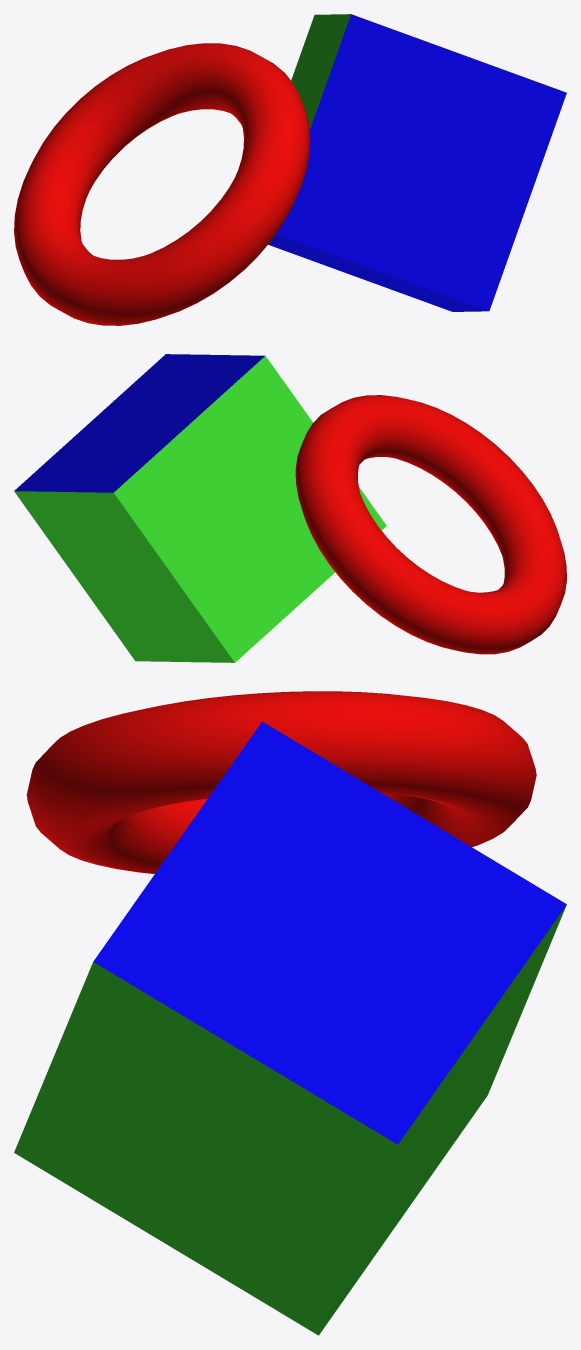
Rendered from multipart.gltf.
3 views of the same model, one above another, from view 1: azimuth 30°, elevation 25°; view 2: azimuth 150°, elevation 25°; view 3: azimuth 270°, elevation 25° (orthographic). The views are drawn at different scales.
Parts seen in each view (by area): view 1: Cube, Torus; view 2: Cube, Torus; view 3: Cube, Torus.
Part boxes in pixels (x1,y1,x2,y2): Cube: (268, 14, 566, 311); Torus: (14, 43, 310, 325); Cube: (14, 354, 386, 662); Torus: (295, 395, 566, 654); Cube: (14, 721, 566, 1335); Torus: (26, 691, 536, 873).
Bounding box in the file's own units: 4.57 × 2.83 × 2.71.
